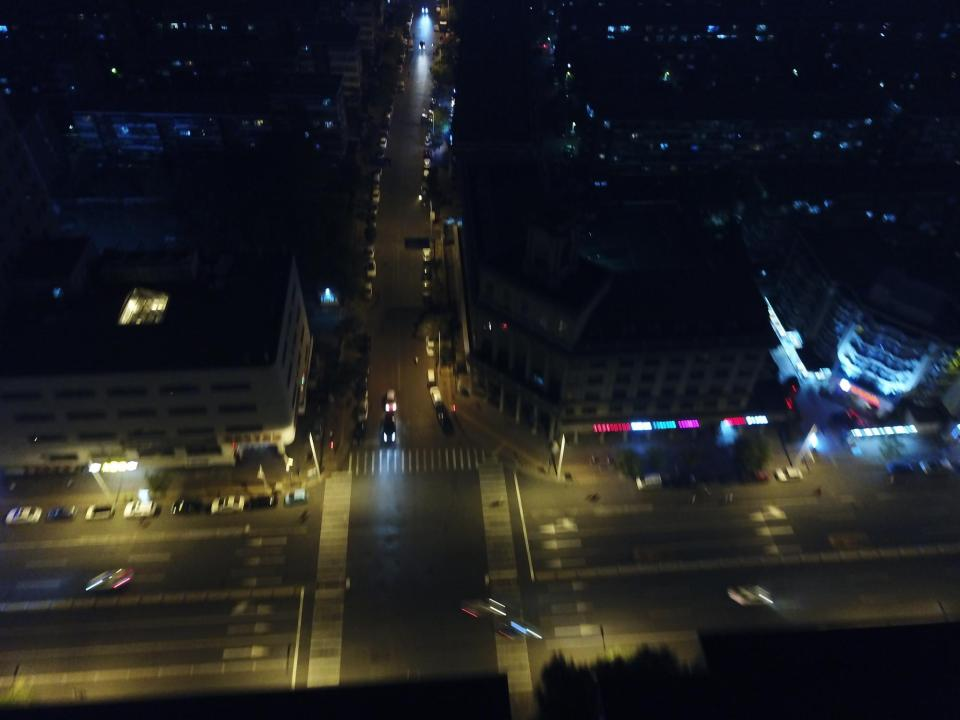car: (86, 570, 132, 592), (724, 584, 772, 604), (458, 598, 502, 619), (494, 624, 541, 642), (5, 505, 44, 526), (886, 460, 919, 482), (918, 458, 955, 477), (123, 500, 157, 518), (210, 496, 245, 513), (170, 498, 200, 516), (45, 506, 77, 522), (248, 494, 279, 509), (774, 466, 804, 481), (282, 488, 308, 505), (634, 474, 662, 489), (382, 413, 396, 442), (436, 408, 453, 431), (385, 386, 398, 412), (429, 385, 444, 407), (356, 331, 370, 352), (747, 469, 769, 481), (424, 336, 436, 357), (366, 220, 377, 242), (358, 398, 368, 422), (421, 279, 432, 300), (354, 422, 364, 445), (356, 375, 367, 395), (357, 354, 369, 372), (363, 282, 373, 300), (366, 260, 376, 278), (365, 243, 376, 259), (368, 201, 378, 218), (422, 247, 432, 262), (422, 263, 431, 279), (428, 368, 435, 385), (372, 188, 380, 202), (374, 173, 381, 189), (376, 154, 382, 172), (422, 180, 429, 193), (422, 170, 430, 180), (380, 137, 386, 150), (426, 132, 431, 145), (424, 147, 430, 157), (424, 158, 429, 169)
